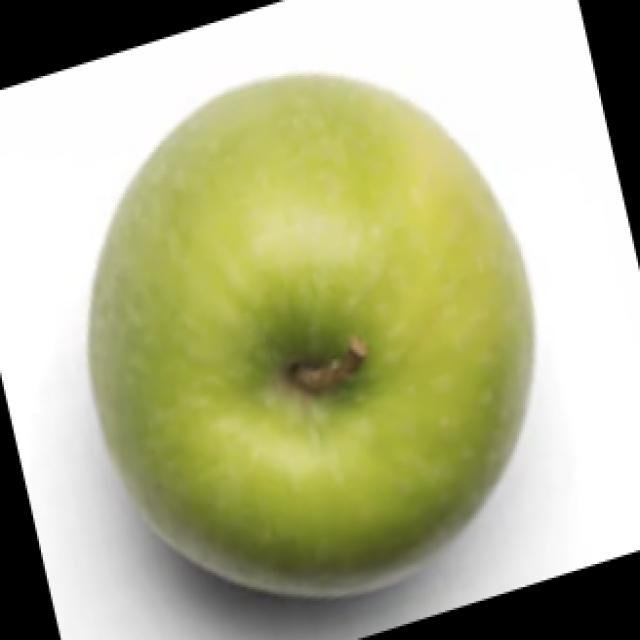Fresh Apple: (104, 80, 528, 570)
